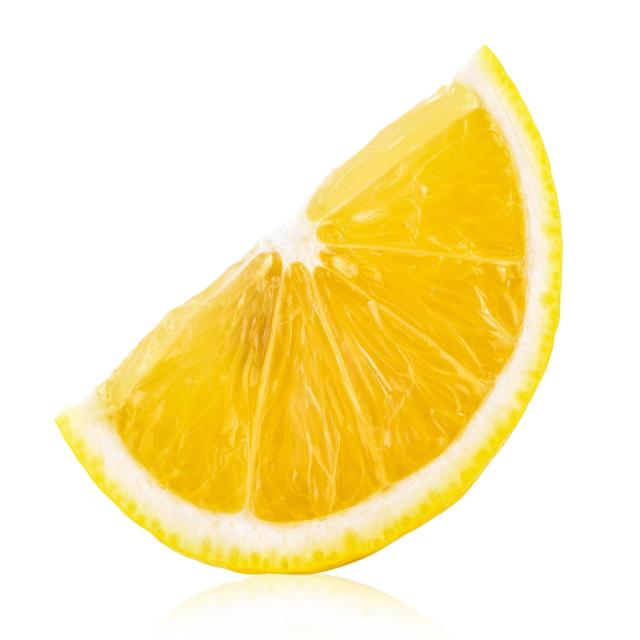lemon: (45, 39, 571, 583)
